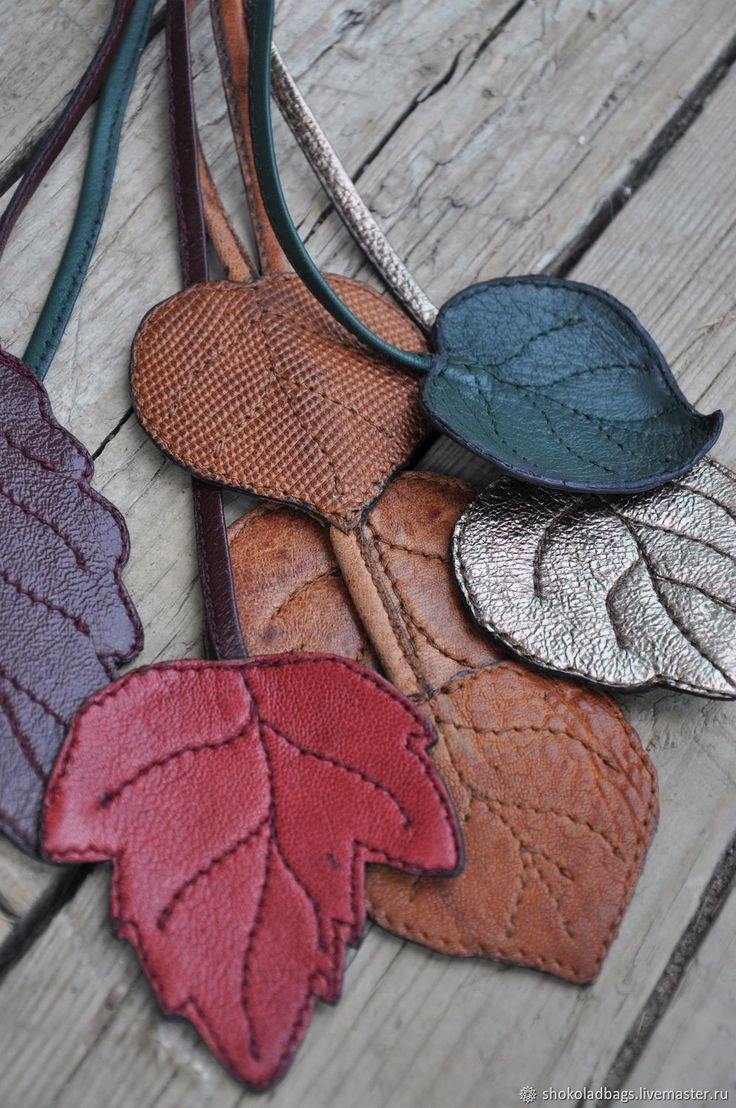cuero: (1, 277, 736, 1094)
